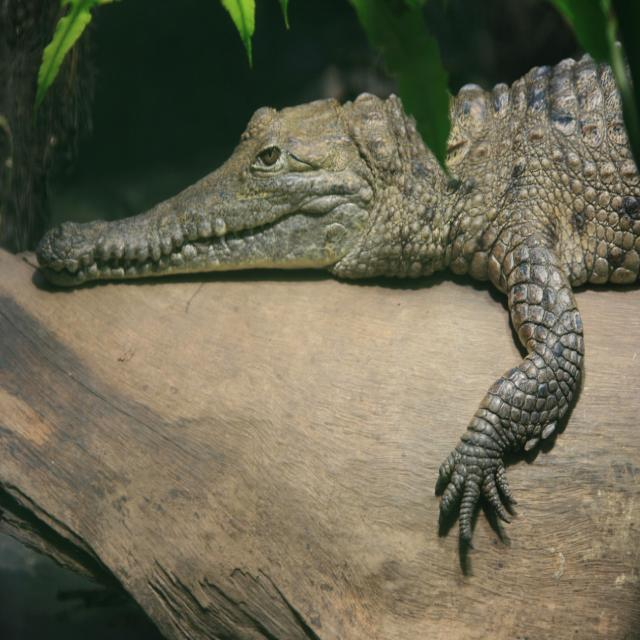crocodile: (40, 56, 640, 546)
